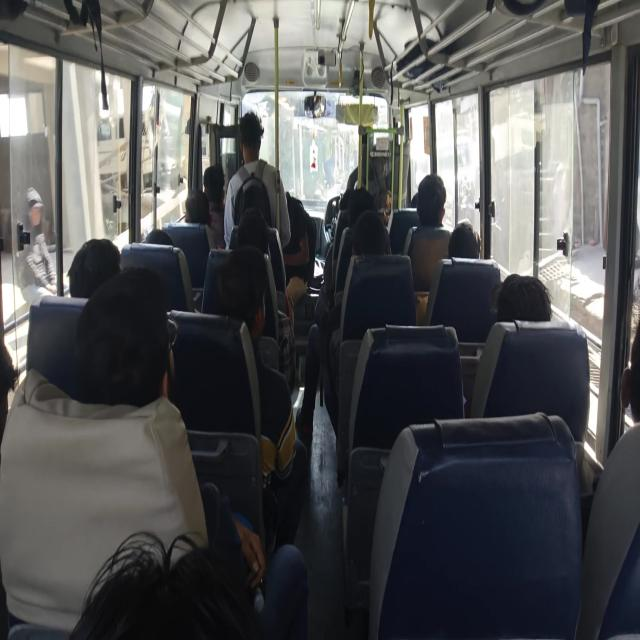person: (96, 492, 257, 640), (96, 274, 175, 408), (215, 255, 270, 328), (502, 264, 556, 336), (66, 230, 120, 290), (619, 310, 640, 426), (238, 113, 276, 175), (422, 171, 457, 232), (292, 190, 315, 277), (449, 215, 486, 264), (183, 193, 223, 236), (208, 163, 237, 216), (352, 197, 391, 233), (368, 215, 398, 259), (238, 217, 270, 254), (340, 185, 364, 214), (154, 236, 178, 262), (245, 192, 264, 220), (411, 191, 428, 219)
